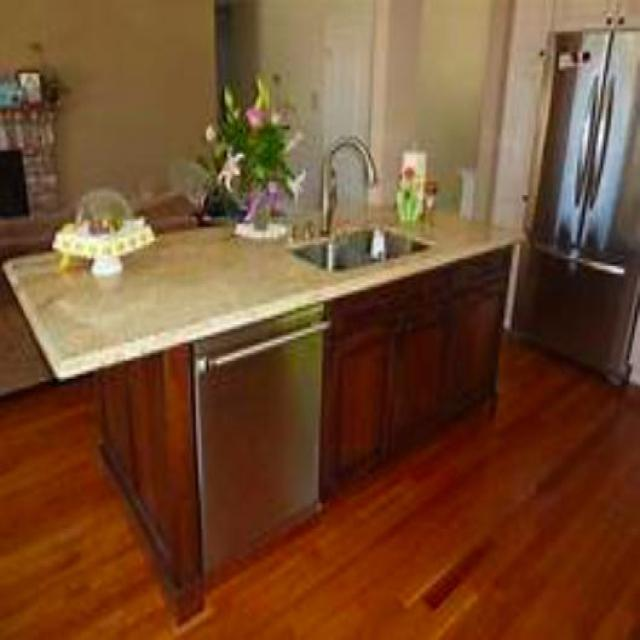dishwasher: (192, 302, 324, 585)
